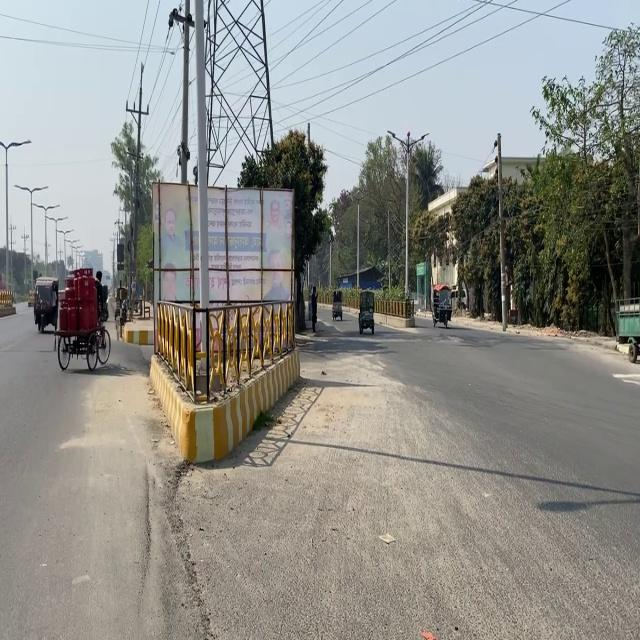Construction-barrier: (125, 406, 216, 638), (148, 345, 300, 463), (120, 317, 154, 345)
Light-pole: (189, 0, 211, 402), (495, 133, 507, 330)
Traffic-cone: (32, 264, 118, 376), (358, 290, 374, 334), (331, 290, 342, 320)
